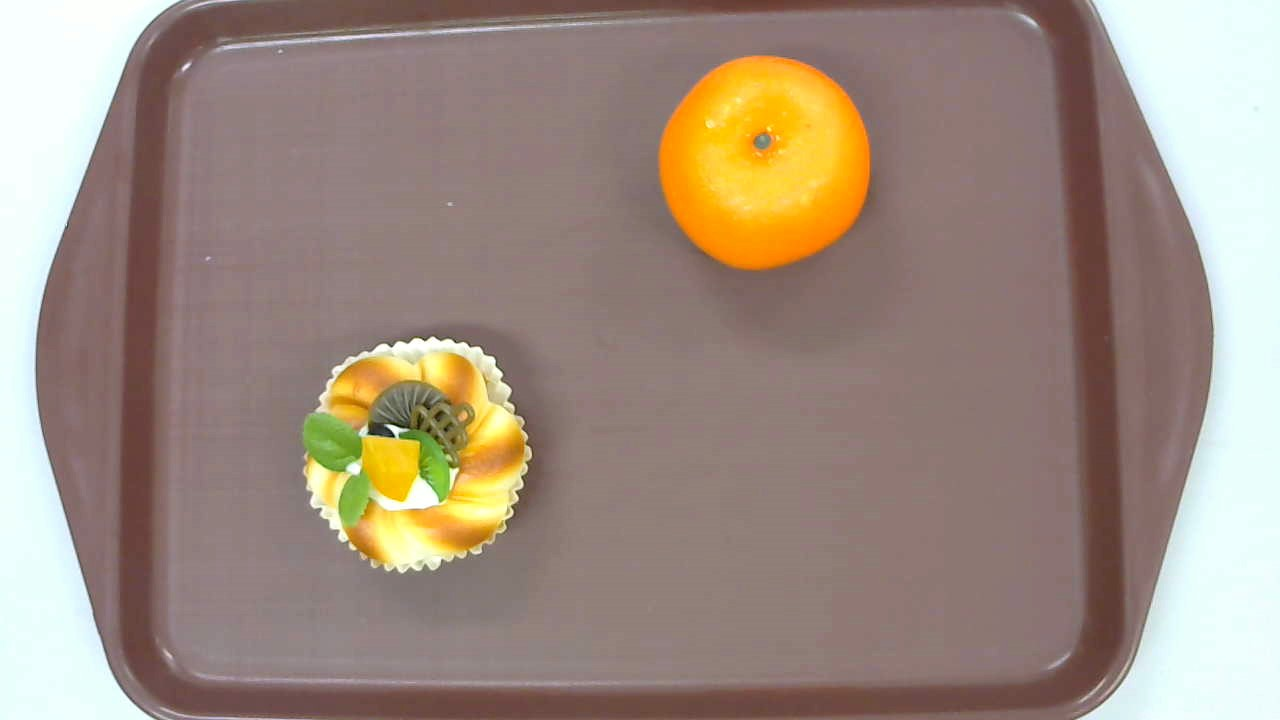fruit tart: (300, 336, 534, 574)
orange: (657, 55, 871, 271)
